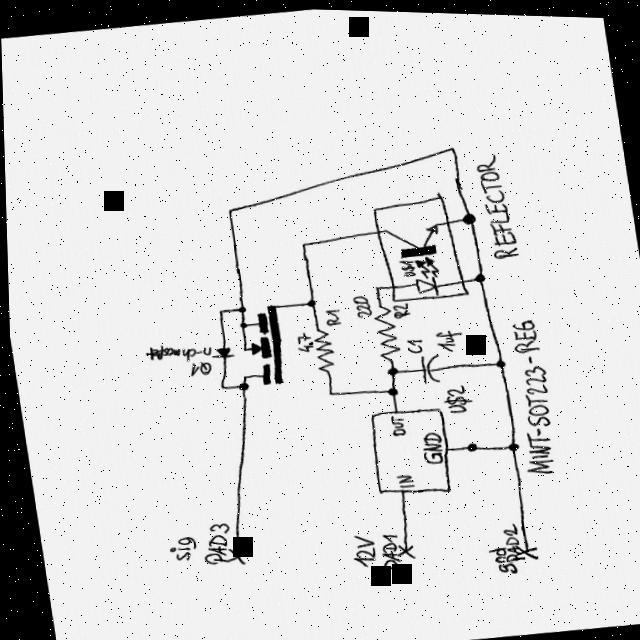capacitor: (415, 350, 441, 381)
diode: (209, 343, 233, 357)
junction: (458, 208, 475, 222), (382, 381, 397, 394), (470, 268, 486, 280), (503, 437, 518, 449), (382, 363, 397, 374), (234, 378, 248, 389), (492, 354, 505, 365), (445, 141, 458, 151), (222, 204, 235, 214), (303, 296, 315, 305), (322, 386, 333, 394), (234, 303, 245, 311), (214, 306, 222, 313), (297, 239, 305, 245), (371, 282, 378, 288), (216, 382, 224, 387)
resistor: (370, 301, 400, 362), (309, 324, 337, 373)
terminal: (511, 539, 536, 556), (223, 545, 245, 564), (394, 540, 412, 555)
text: (501, 314, 559, 471), (472, 148, 520, 257), (142, 339, 209, 363), (195, 519, 228, 566), (373, 528, 404, 570), (346, 530, 375, 566), (498, 517, 523, 558), (440, 381, 472, 411), (162, 533, 196, 561), (484, 543, 515, 572), (416, 428, 440, 461), (432, 324, 460, 350), (350, 291, 372, 315), (184, 357, 211, 376), (291, 328, 312, 352), (319, 305, 341, 325), (401, 333, 423, 352), (387, 412, 404, 434), (388, 299, 409, 316), (397, 256, 415, 275), (392, 469, 413, 485)
transistor: (234, 300, 286, 386)
